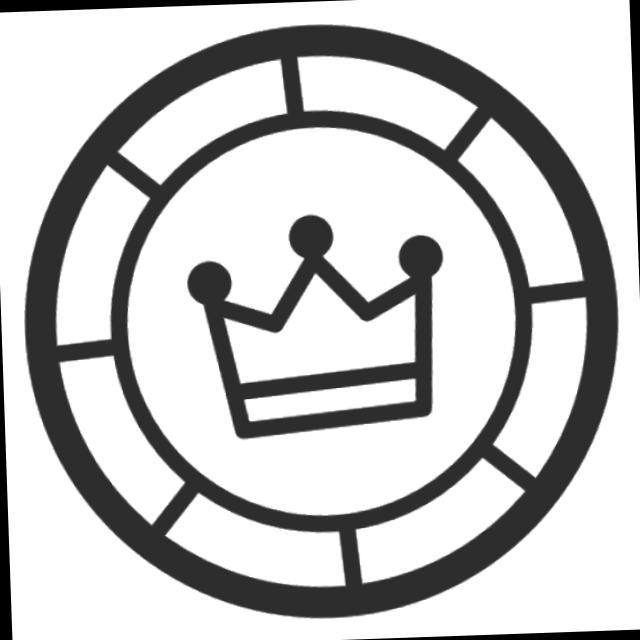coin: (7, 1, 637, 640)
